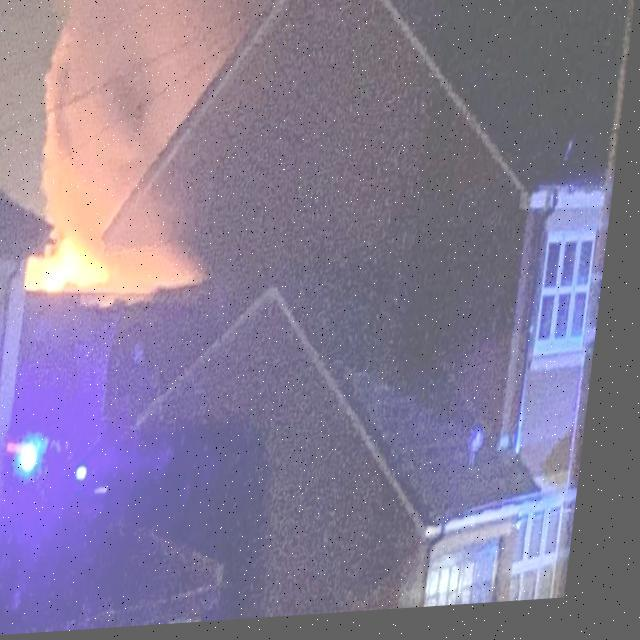Fire: (33, 242, 117, 296)
